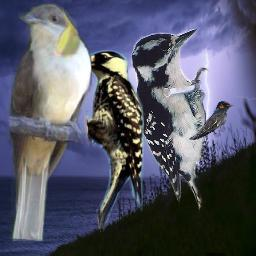Cuckoo: (5, 3, 92, 241)
Swallow: (189, 101, 233, 140)
Woodpecker: (131, 29, 211, 211), (71, 50, 148, 232)
